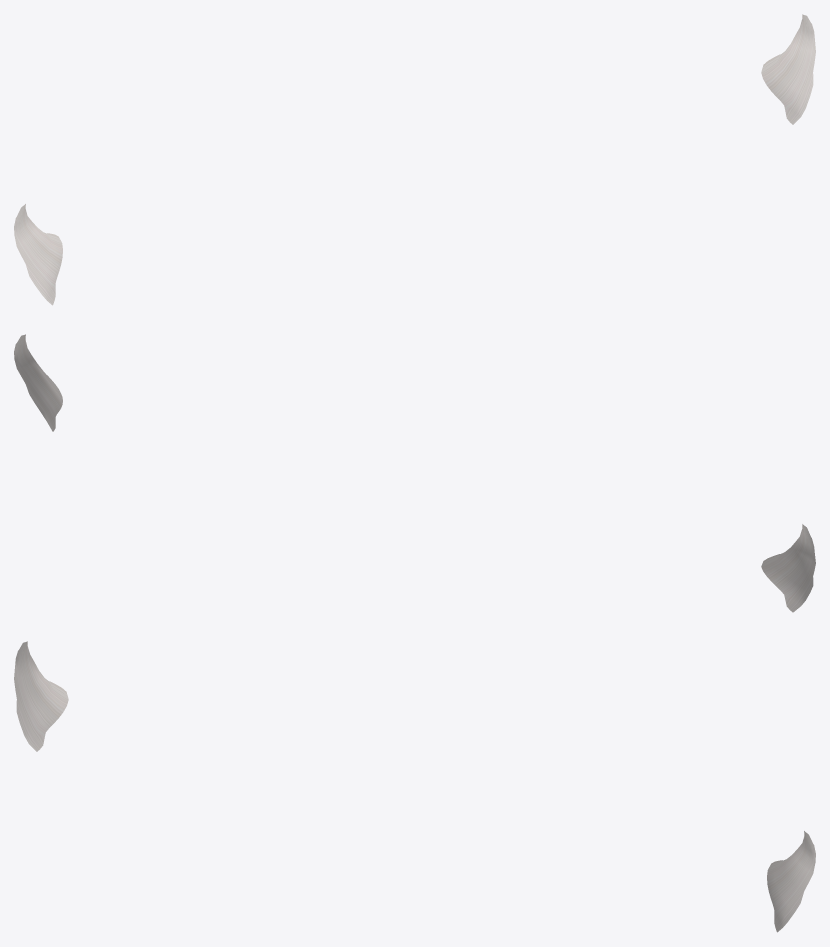
The model's file is bicipital_aponeurosis.glb.
3 views of the same model, one above another, from view 1: azimuth 30°, elevation 25°; view 2: azimuth 150°, elevation 25°; view 3: azimuth 330°, elevation 25° (orthographic).
Parts seen in each view (by area): view 1: Bicipital aponeurosis.l, Bicipital aponeurosis.r; view 2: Bicipital aponeurosis.r, Bicipital aponeurosis.l; view 3: Bicipital aponeurosis.r, Bicipital aponeurosis.l.
Part boxes in pixels (left/top/right/bottom): Bicipital aponeurosis.l: left=761, top=14, right=815, bottom=124; Bicipital aponeurosis.r: left=14, top=204, right=62, bottom=305; Bicipital aponeurosis.r: left=761, top=524, right=815, bottom=612; Bicipital aponeurosis.l: left=14, top=334, right=62, bottom=431; Bicipital aponeurosis.r: left=14, top=641, right=68, bottom=751; Bicipital aponeurosis.l: left=767, top=831, right=815, bottom=932.
Size of the model in its own units: 0.4501 by 0.0538 by 0.0127.
Materials: 1 (1 with a texture image).
